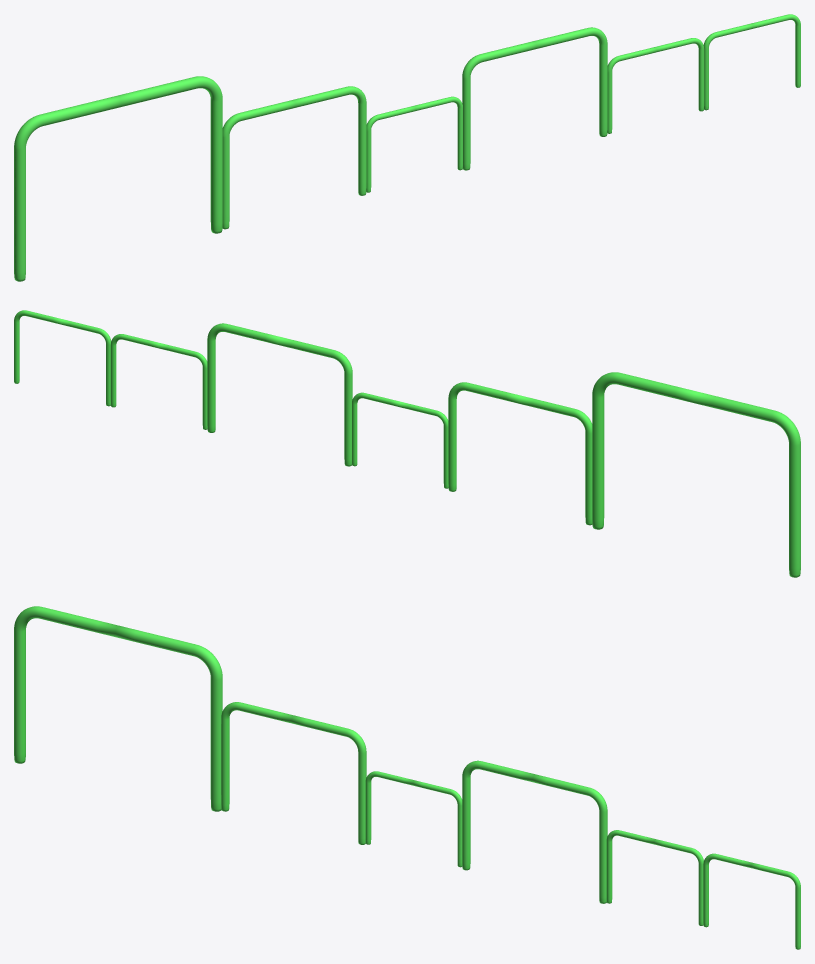
File: green-fence.glb
3 views of the same model, one above another, from view 1: azimuth 30°, elevation 25°; view 2: azimuth 150°, elevation 25°; view 3: azimuth 330°, elevation 25° (orthographic).
Visible parts, largest first — view 1: Fence Green; view 2: Fence Green; view 3: Fence Green.
Part boxes in pixels (x1,y1,x2,y2): Fence Green: (14, 14, 800, 281); Fence Green: (14, 310, 800, 577); Fence Green: (14, 606, 800, 949).
Bounding box in the file's own units: 4.37 × 0.8487 × 0.0575.
1 material, 1 textured.
